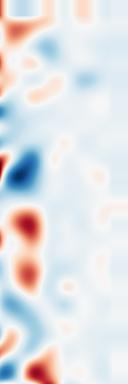filament: (7, 202, 50, 298)
